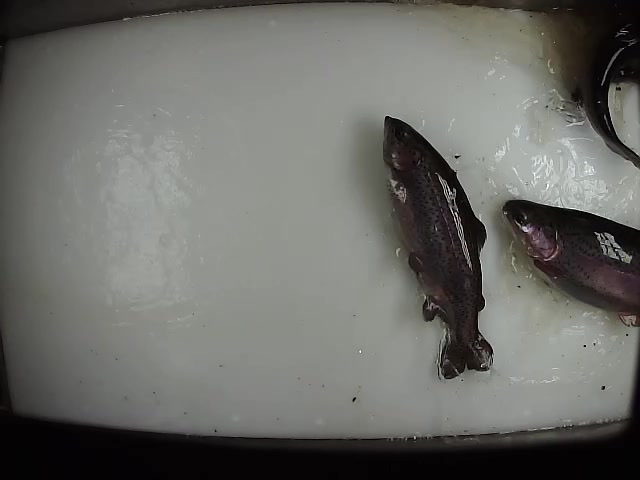fish: (381, 113, 495, 382), (502, 197, 640, 335), (572, 15, 640, 170)
